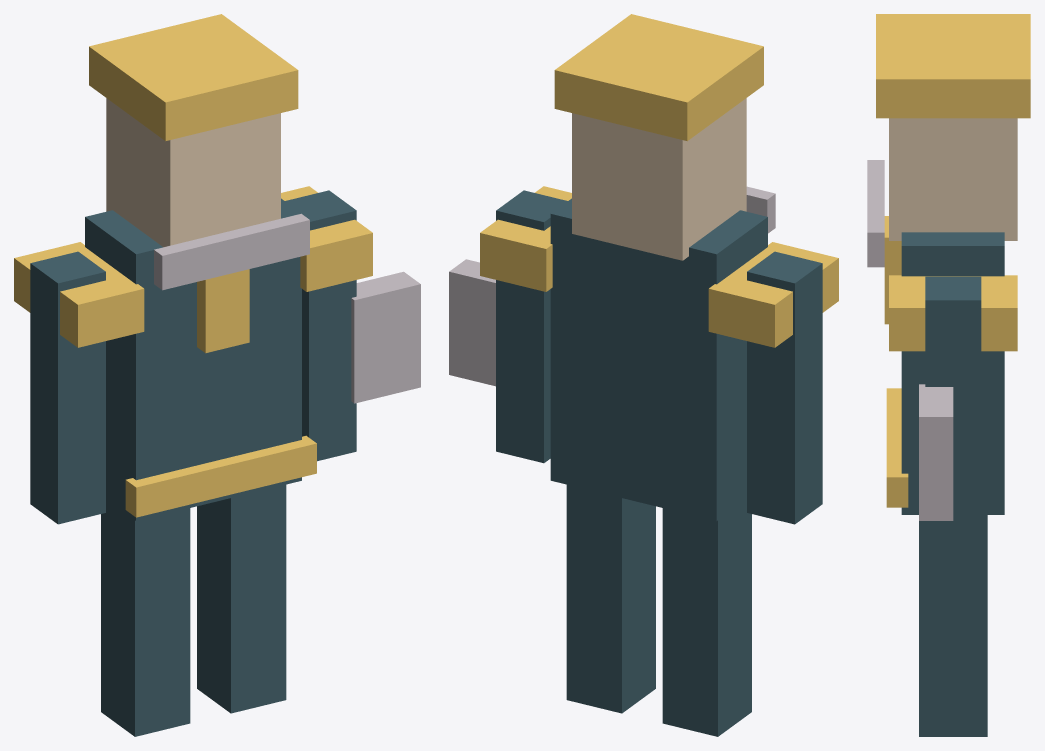
File: 05_luma_starfall_diver_of.glb
The picture shows the model from 3 angles, left to right: view 1: azimuth 30°, elevation 25°; view 2: azimuth 150°, elevation 25°; view 3: azimuth 270°, elevation 25°; orthographic projection.
Parts seen in each view (by area): view 1: Luma Starfall, Diver of; view 2: Luma Starfall, Diver of; view 3: Luma Starfall, Diver of.
Boxes of the visible parts, left/top/right/bottom form: Luma Starfall, Diver of: left=14, top=14, right=420, bottom=736; Luma Starfall, Diver of: left=449, top=14, right=838, bottom=736; Luma Starfall, Diver of: left=867, top=14, right=1030, bottom=736.
Size of the model in its own units: 0.9623 by 1.66 by 0.3751.
